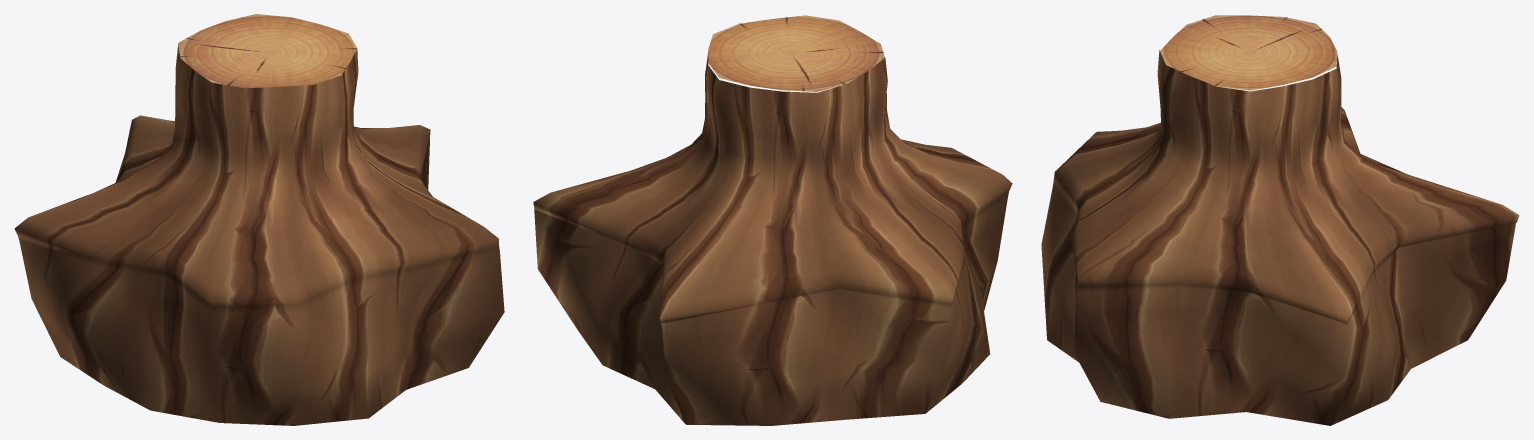
The model's file is stump1.glb.
3 views of the same model, side by side, from view 1: azimuth 30°, elevation 25°; view 2: azimuth 150°, elevation 25°; view 3: azimuth 270°, elevation 25° (orthographic).
Parts seen in each view (by area): view 1: stump1_bark_LOD0, stump1_cap_LOD0; view 2: stump1_bark_LOD0, stump1_cap_LOD0; view 3: stump1_bark_LOD0, stump1_cap_LOD0.
Boxes of the visible parts, x1,y1,x2,y2 form: stump1_bark_LOD0: (14,44,504,425); stump1_cap_LOD0: (178,14,357,88); stump1_bark_LOD0: (533,52,1012,425); stump1_cap_LOD0: (708,15,884,91); stump1_bark_LOD0: (1041,50,1519,425); stump1_cap_LOD0: (1160,15,1337,90).
Size of what is drawn, in the model's own units: 1.28 by 0.8555 by 1.27.
Materials: 2 (2 with a texture image).
